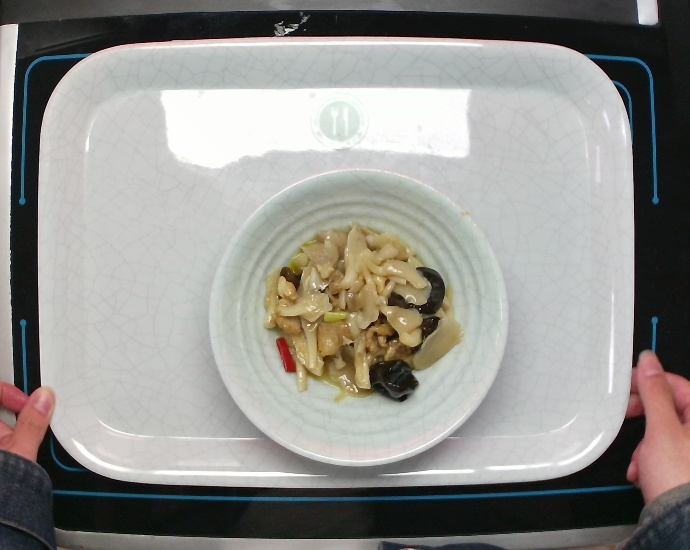JYsf-Xiao_Tang_Wan: (206, 165, 511, 468)
